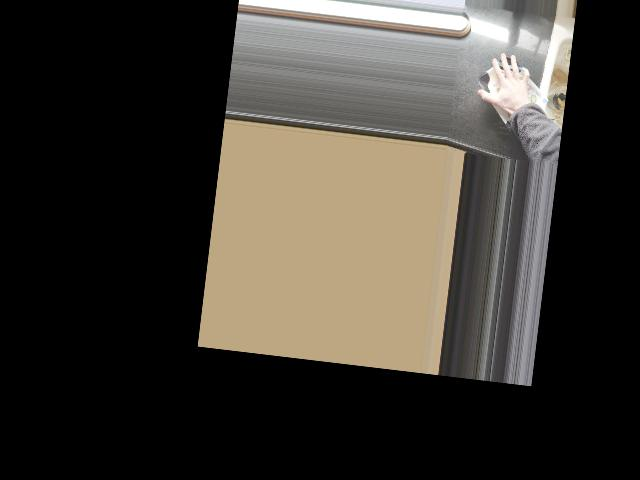cheese: (471, 51, 555, 134)
